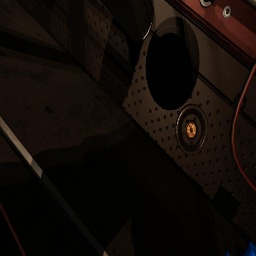NitrogenTank ,: (0, 26, 192, 256)
